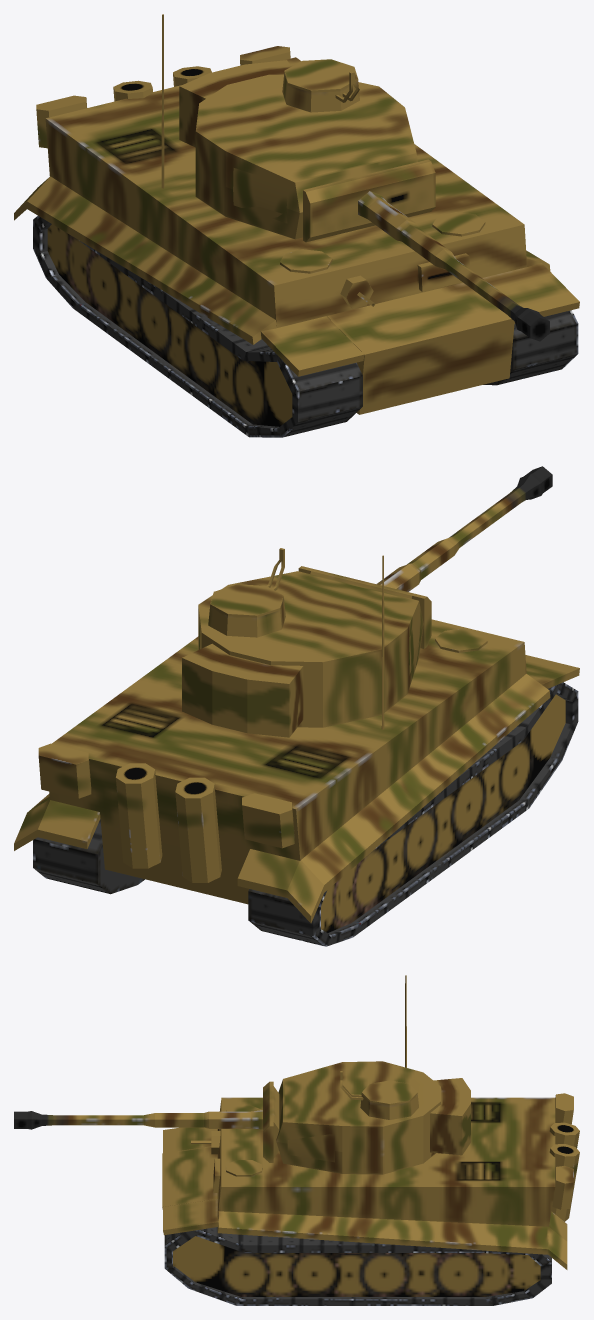
3 views of the same model, one above another, from view 1: azimuth 30°, elevation 25°; view 2: azimuth 150°, elevation 25°; view 3: azimuth 270°, elevation 25° (orthographic). The views are drawn at different scales.
Visible parts, largest first — view 1: Tiger_H1_Hull, Tiger_H1_Turret, Tiger_H1_Mantlet, Tiger_H1_MainGun, Tiger_H1_Hatch, Tiger_H1_Hatch_D, Tiger_H1_Hatch_L; view 2: Tiger_H1_Hull, Tiger_H1_Turret, Tiger_H1_MainGun, Tiger_H1_Hatch, Tiger_H1_Mantlet, Tiger_H1_Hatch_L; view 3: Tiger_H1_Hull, Tiger_H1_Turret, Tiger_H1_MainGun, Tiger_H1_Mantlet, Tiger_H1_Hatch, Tiger_H1_Hatch_D.
Part boxes in pixels (left/top/right/bottom): Tiger_H1_Hull: left=14, top=46, right=579, bottom=437; Tiger_H1_Turret: left=179, top=60, right=417, bottom=239; Tiger_H1_Mantlet: left=303, top=159, right=435, bottom=242; Tiger_H1_MainGun: left=358, top=191, right=549, bottom=341; Tiger_H1_Hatch: left=284, top=59, right=358, bottom=92; Tiger_H1_Hatch_D: left=432, top=212, right=485, bottom=236; Tiger_H1_Hatch_L: left=280, top=249, right=332, bottom=273; Tiger_H1_Hull: left=14, top=619, right=579, bottom=946; Tiger_H1_Turret: left=182, top=571, right=423, bottom=737; Tiger_H1_MainGun: left=376, top=466, right=552, bottom=591; Tiger_H1_Hatch: left=210, top=584, right=283, bottom=617; Tiger_H1_Mantlet: left=298, top=566, right=431, bottom=648; Tiger_H1_Hatch_L: left=435, top=628, right=487, bottom=652; Tiger_H1_Hull: left=162, top=1093, right=579, bottom=1305; Tiger_H1_Turret: left=276, top=1061, right=470, bottom=1174; Tiger_H1_MainGun: left=14, top=1110, right=262, bottom=1130; Tiger_H1_Mantlet: left=263, top=1081, right=279, bottom=1162; Tiger_H1_Hatch: left=361, top=1080, right=417, bottom=1105; Tiger_H1_Hatch_D: left=226, top=1160, right=262, bottom=1176.
Bounding box in the file's own units: 3.89 × 4.14 × 8.79.
3 materials, 3 textured.
